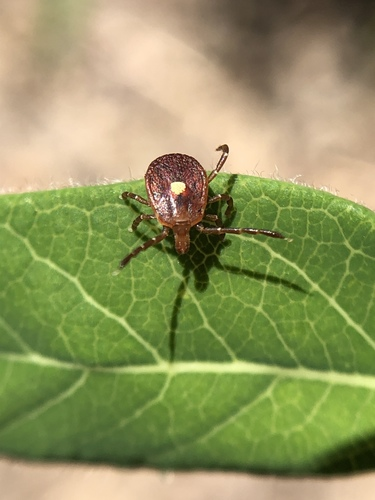dog tick: (11, 208, 89, 277)
